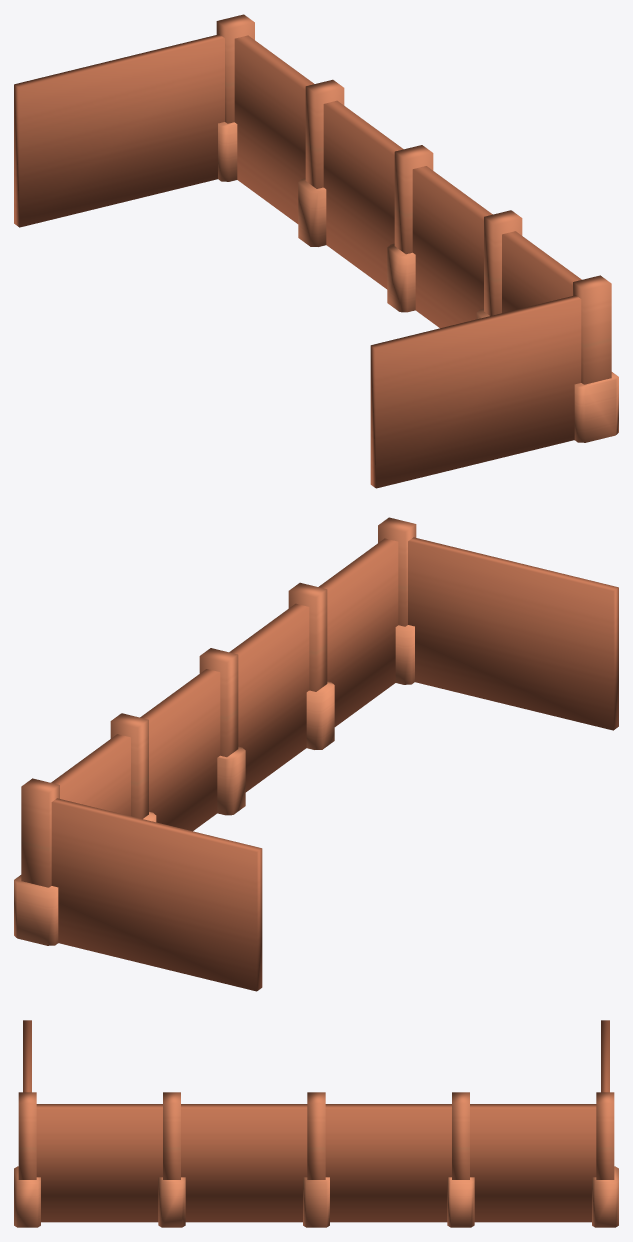
File: n1_fence-1x4_lev1.glb
3 views of the same model, one above another, from view 1: azimuth 30°, elevation 25°; view 2: azimuth 150°, elevation 25°; view 3: azimuth 270°, elevation 25° (orthographic). The views are drawn at different scales.
Visible parts, largest first — view 1: n1_fence-1x4_lev1; view 2: n1_fence-1x4_lev1; view 3: n1_fence-1x4_lev1.
Part boxes in pixels (<box>): n1_fence-1x4_lev1: <box>14,14,618,488</box>; n1_fence-1x4_lev1: <box>14,517,618,991</box>; n1_fence-1x4_lev1: <box>14,1020,618,1227</box>.
Size of the model in its own units: 3.39 by 2.03 by 9.15.
1 material, 1 textured.
